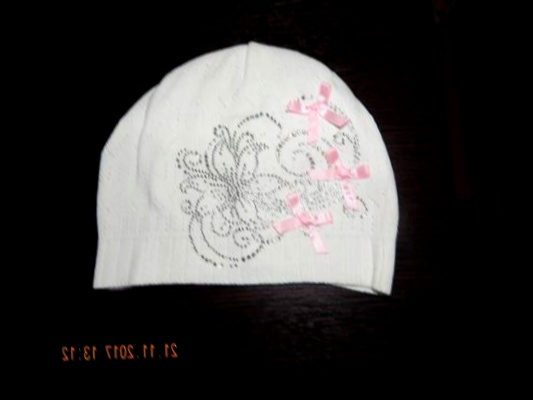Hat: (57, 5, 435, 336)
